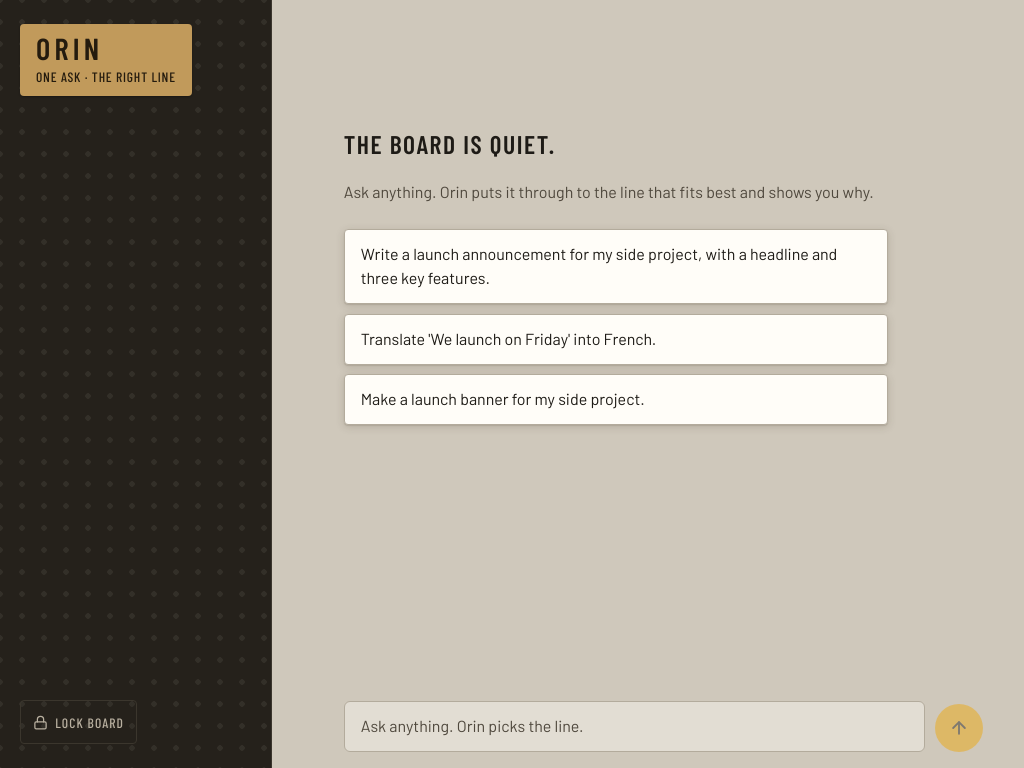
owner session › locks the board
The width and height of the screenshot is (1024, 768).
Click the button "Lock board" at [78, 722], box [20,700,137,744]
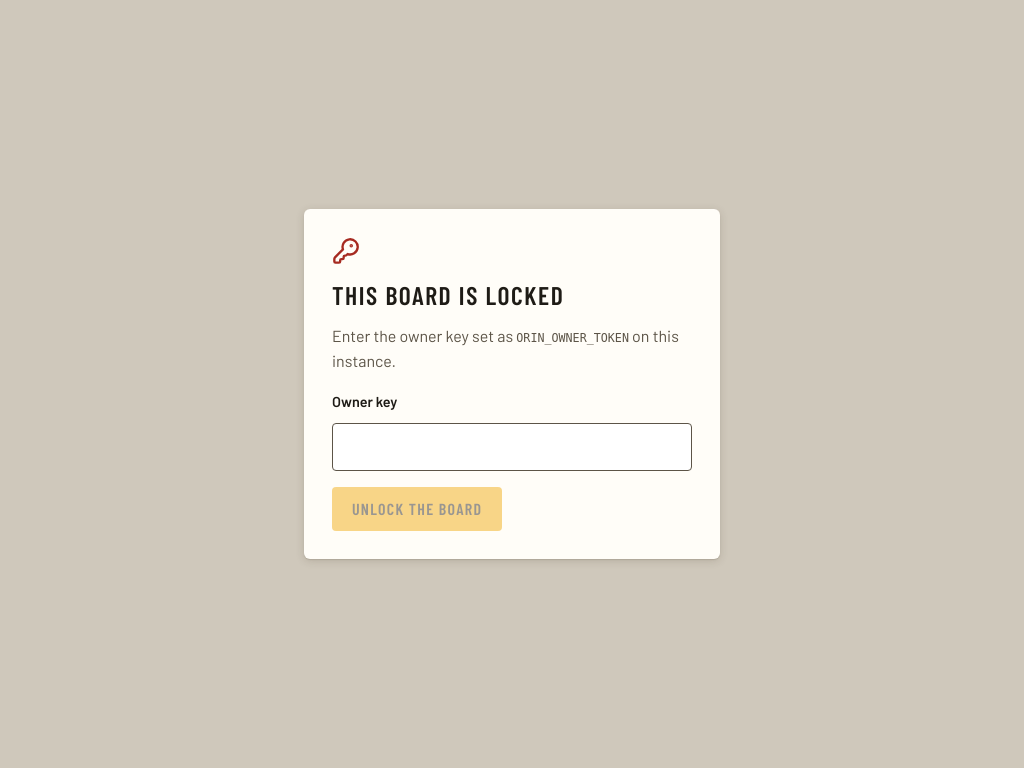
Check: the password field labelled "Owner key" is shown, box [332,423,692,471]
